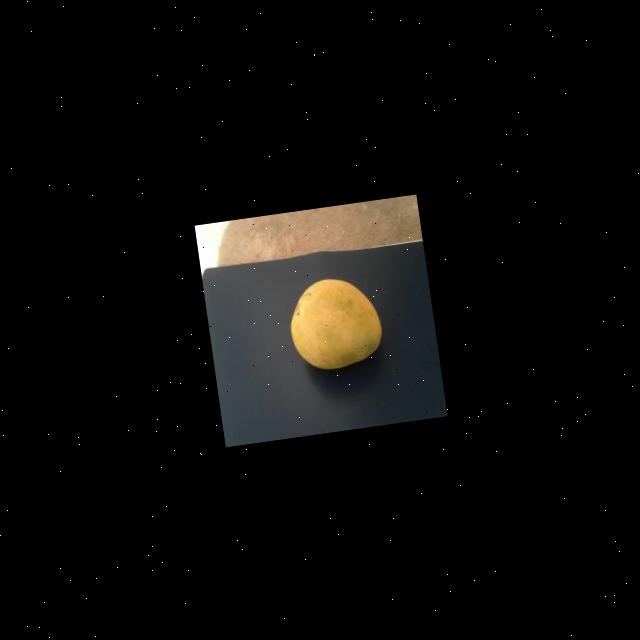Mango: (284, 270, 386, 374)
